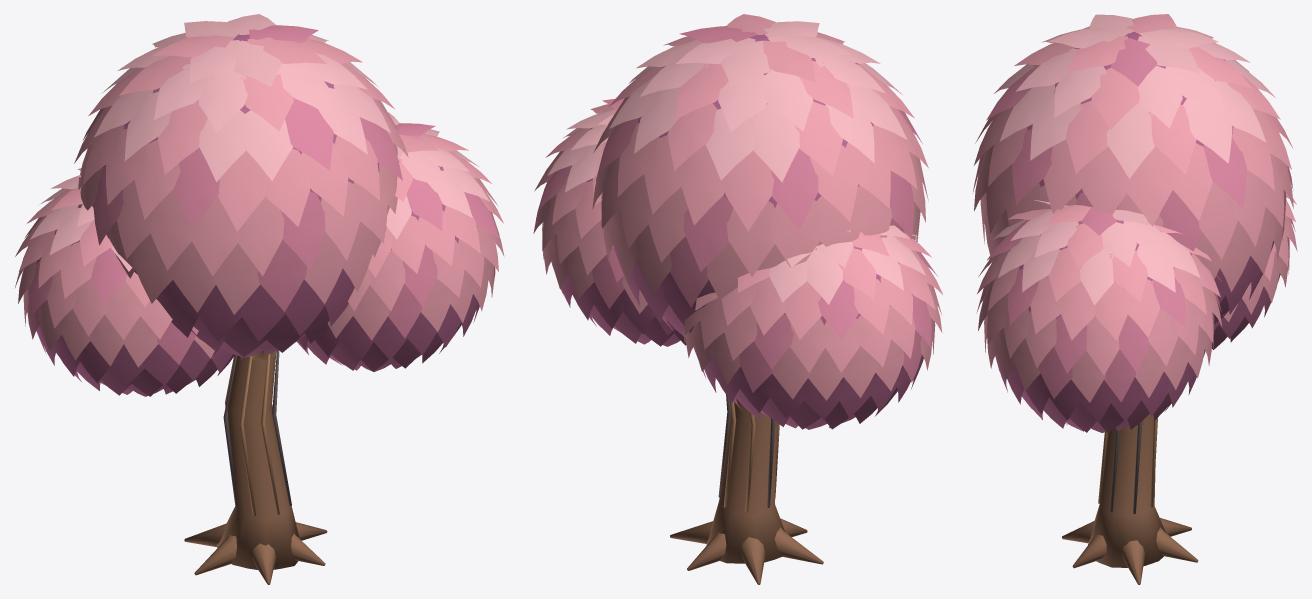
File: SM_SF_PinkTree_02.fbx
The picture shows the model from 3 angles, left to right: view 1: azimuth 30°, elevation 25°; view 2: azimuth 150°, elevation 25°; view 3: azimuth 270°, elevation 25°; orthographic projection. The views are drawn at different scales.
Visible parts, largest first — view 1: SM_SF_PinkTree_02; view 2: SM_SF_PinkTree_02; view 3: SM_SF_PinkTree_02.
Boxes of the visible parts, bbox=[...] form: SM_SF_PinkTree_02: bbox=[14, 14, 504, 584]; SM_SF_PinkTree_02: bbox=[533, 14, 942, 584]; SM_SF_PinkTree_02: bbox=[972, 14, 1297, 584].
Size of the model in its own units: 4.86 by 3.33 by 5.75.
